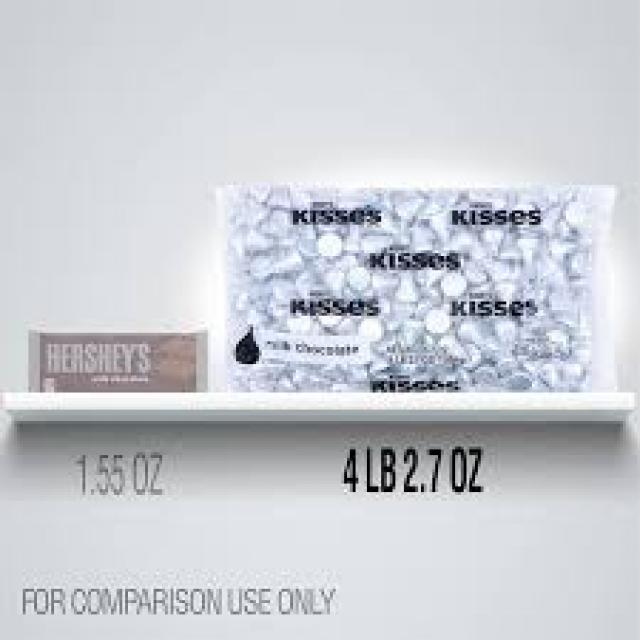kisses: (440, 271, 470, 304), (313, 230, 344, 260), (424, 304, 451, 337)
